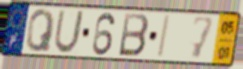6: (91, 11, 116, 57)
7: (191, 15, 215, 62)
B: (117, 12, 151, 59)
I: (156, 14, 172, 60)
Q: (24, 8, 56, 54)
U: (52, 9, 86, 55)
